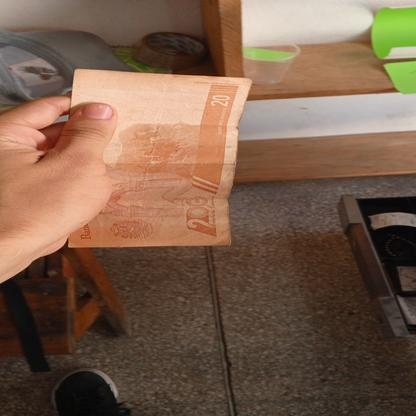vef_back: (67, 68, 252, 248)
